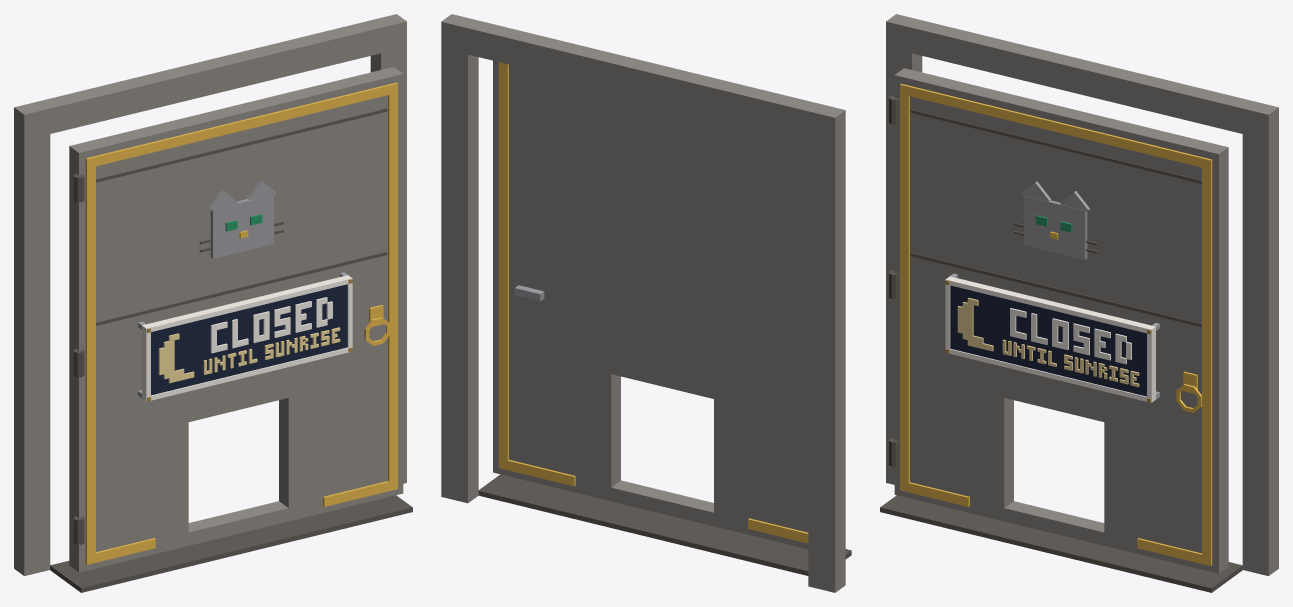
The model's file is CatCafe_Door_TempleGate_Back.glb.
The picture shows the model from 3 angles, left to right: view 1: azimuth 30°, elevation 25°; view 2: azimuth 150°, elevation 25°; view 3: azimuth 330°, elevation 25°; orthographic projection. The views are drawn at different scales.
Visible parts, largest first — view 1: CatCafe_Door_TempleGate_Back_Leaf, CatCafe_Door_TempleGate_Back, CatCafe_Door_TempleGate_Back_Sign, CatCafe_Door_TempleGate_Back_Sign_Bulb; view 2: CatCafe_Door_TempleGate_Back_Leaf, CatCafe_Door_TempleGate_Back; view 3: CatCafe_Door_TempleGate_Back_Leaf, CatCafe_Door_TempleGate_Back, CatCafe_Door_TempleGate_Back_Sign, CatCafe_Door_TempleGate_Back_Sign_Bulb.
Boxes of the visible parts, box(x1,y1,x2,y2) form: CatCafe_Door_TempleGate_Back_Leaf: box(69, 67, 403, 572); CatCafe_Door_TempleGate_Back: box(14, 14, 412, 592); CatCafe_Door_TempleGate_Back_Sign: box(138, 272, 352, 401); CatCafe_Door_TempleGate_Back_Sign_Bulb: box(158, 327, 340, 383); CatCafe_Door_TempleGate_Back_Leaf: box(493, 60, 808, 549); CatCafe_Door_TempleGate_Back: box(441, 14, 851, 592); CatCafe_Door_TempleGate_Back_Leaf: box(889, 68, 1228, 573); CatCafe_Door_TempleGate_Back: box(880, 14, 1278, 592); CatCafe_Door_TempleGate_Back_Sign: box(945, 273, 1159, 402); CatCafe_Door_TempleGate_Back_Sign_Bulb: box(957, 298, 1139, 387).
Size of the model in its own units: 6.9 by 7.95 by 1.32.
Materials: 1 (1 with a texture image).
